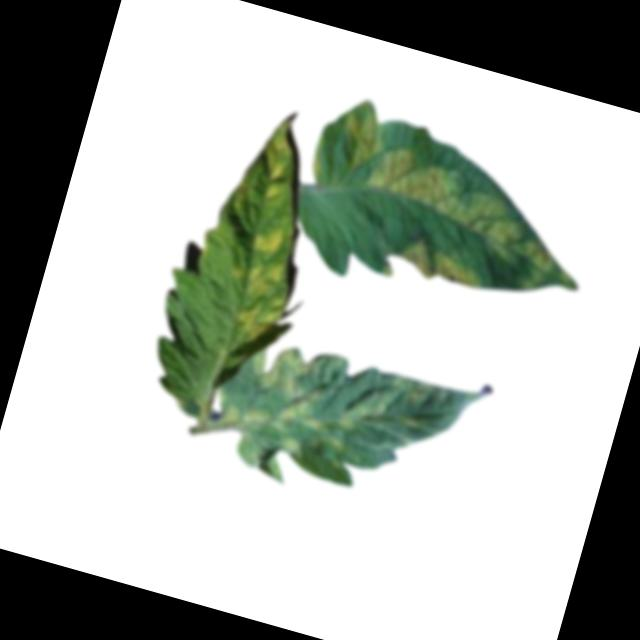Leaf_Mold: (313, 98, 583, 296), (216, 335, 327, 446), (398, 231, 490, 293), (251, 106, 305, 205), (226, 250, 290, 303), (230, 292, 288, 348), (336, 391, 384, 441), (247, 217, 292, 264), (304, 411, 330, 434)
